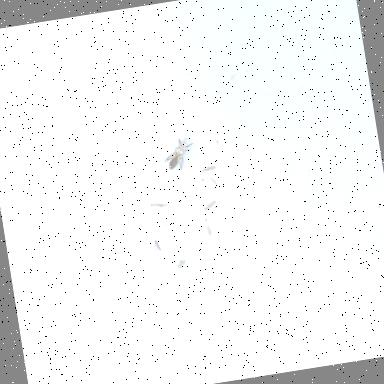pbw: (148, 200, 170, 216), (198, 160, 220, 174), (200, 196, 218, 213), (206, 176, 222, 190), (202, 222, 214, 238)
